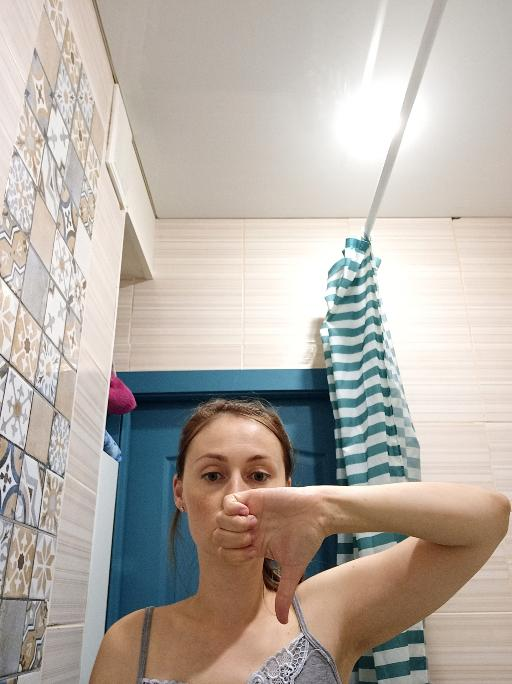dislike: (211, 483, 333, 626)
